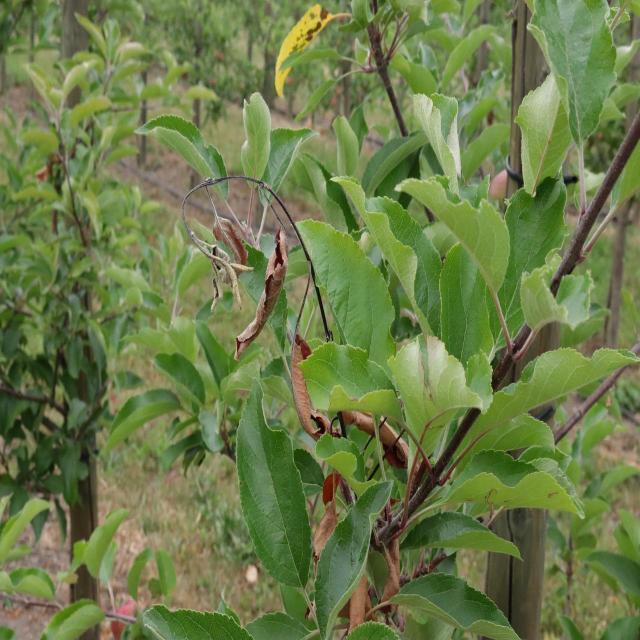-FireBlight-: (183, 192, 317, 441), (375, 511, 409, 595)
